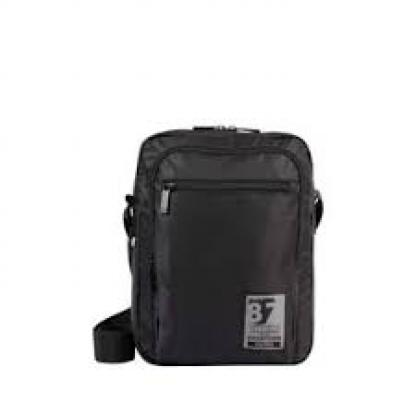morral: (87, 118, 357, 381)
